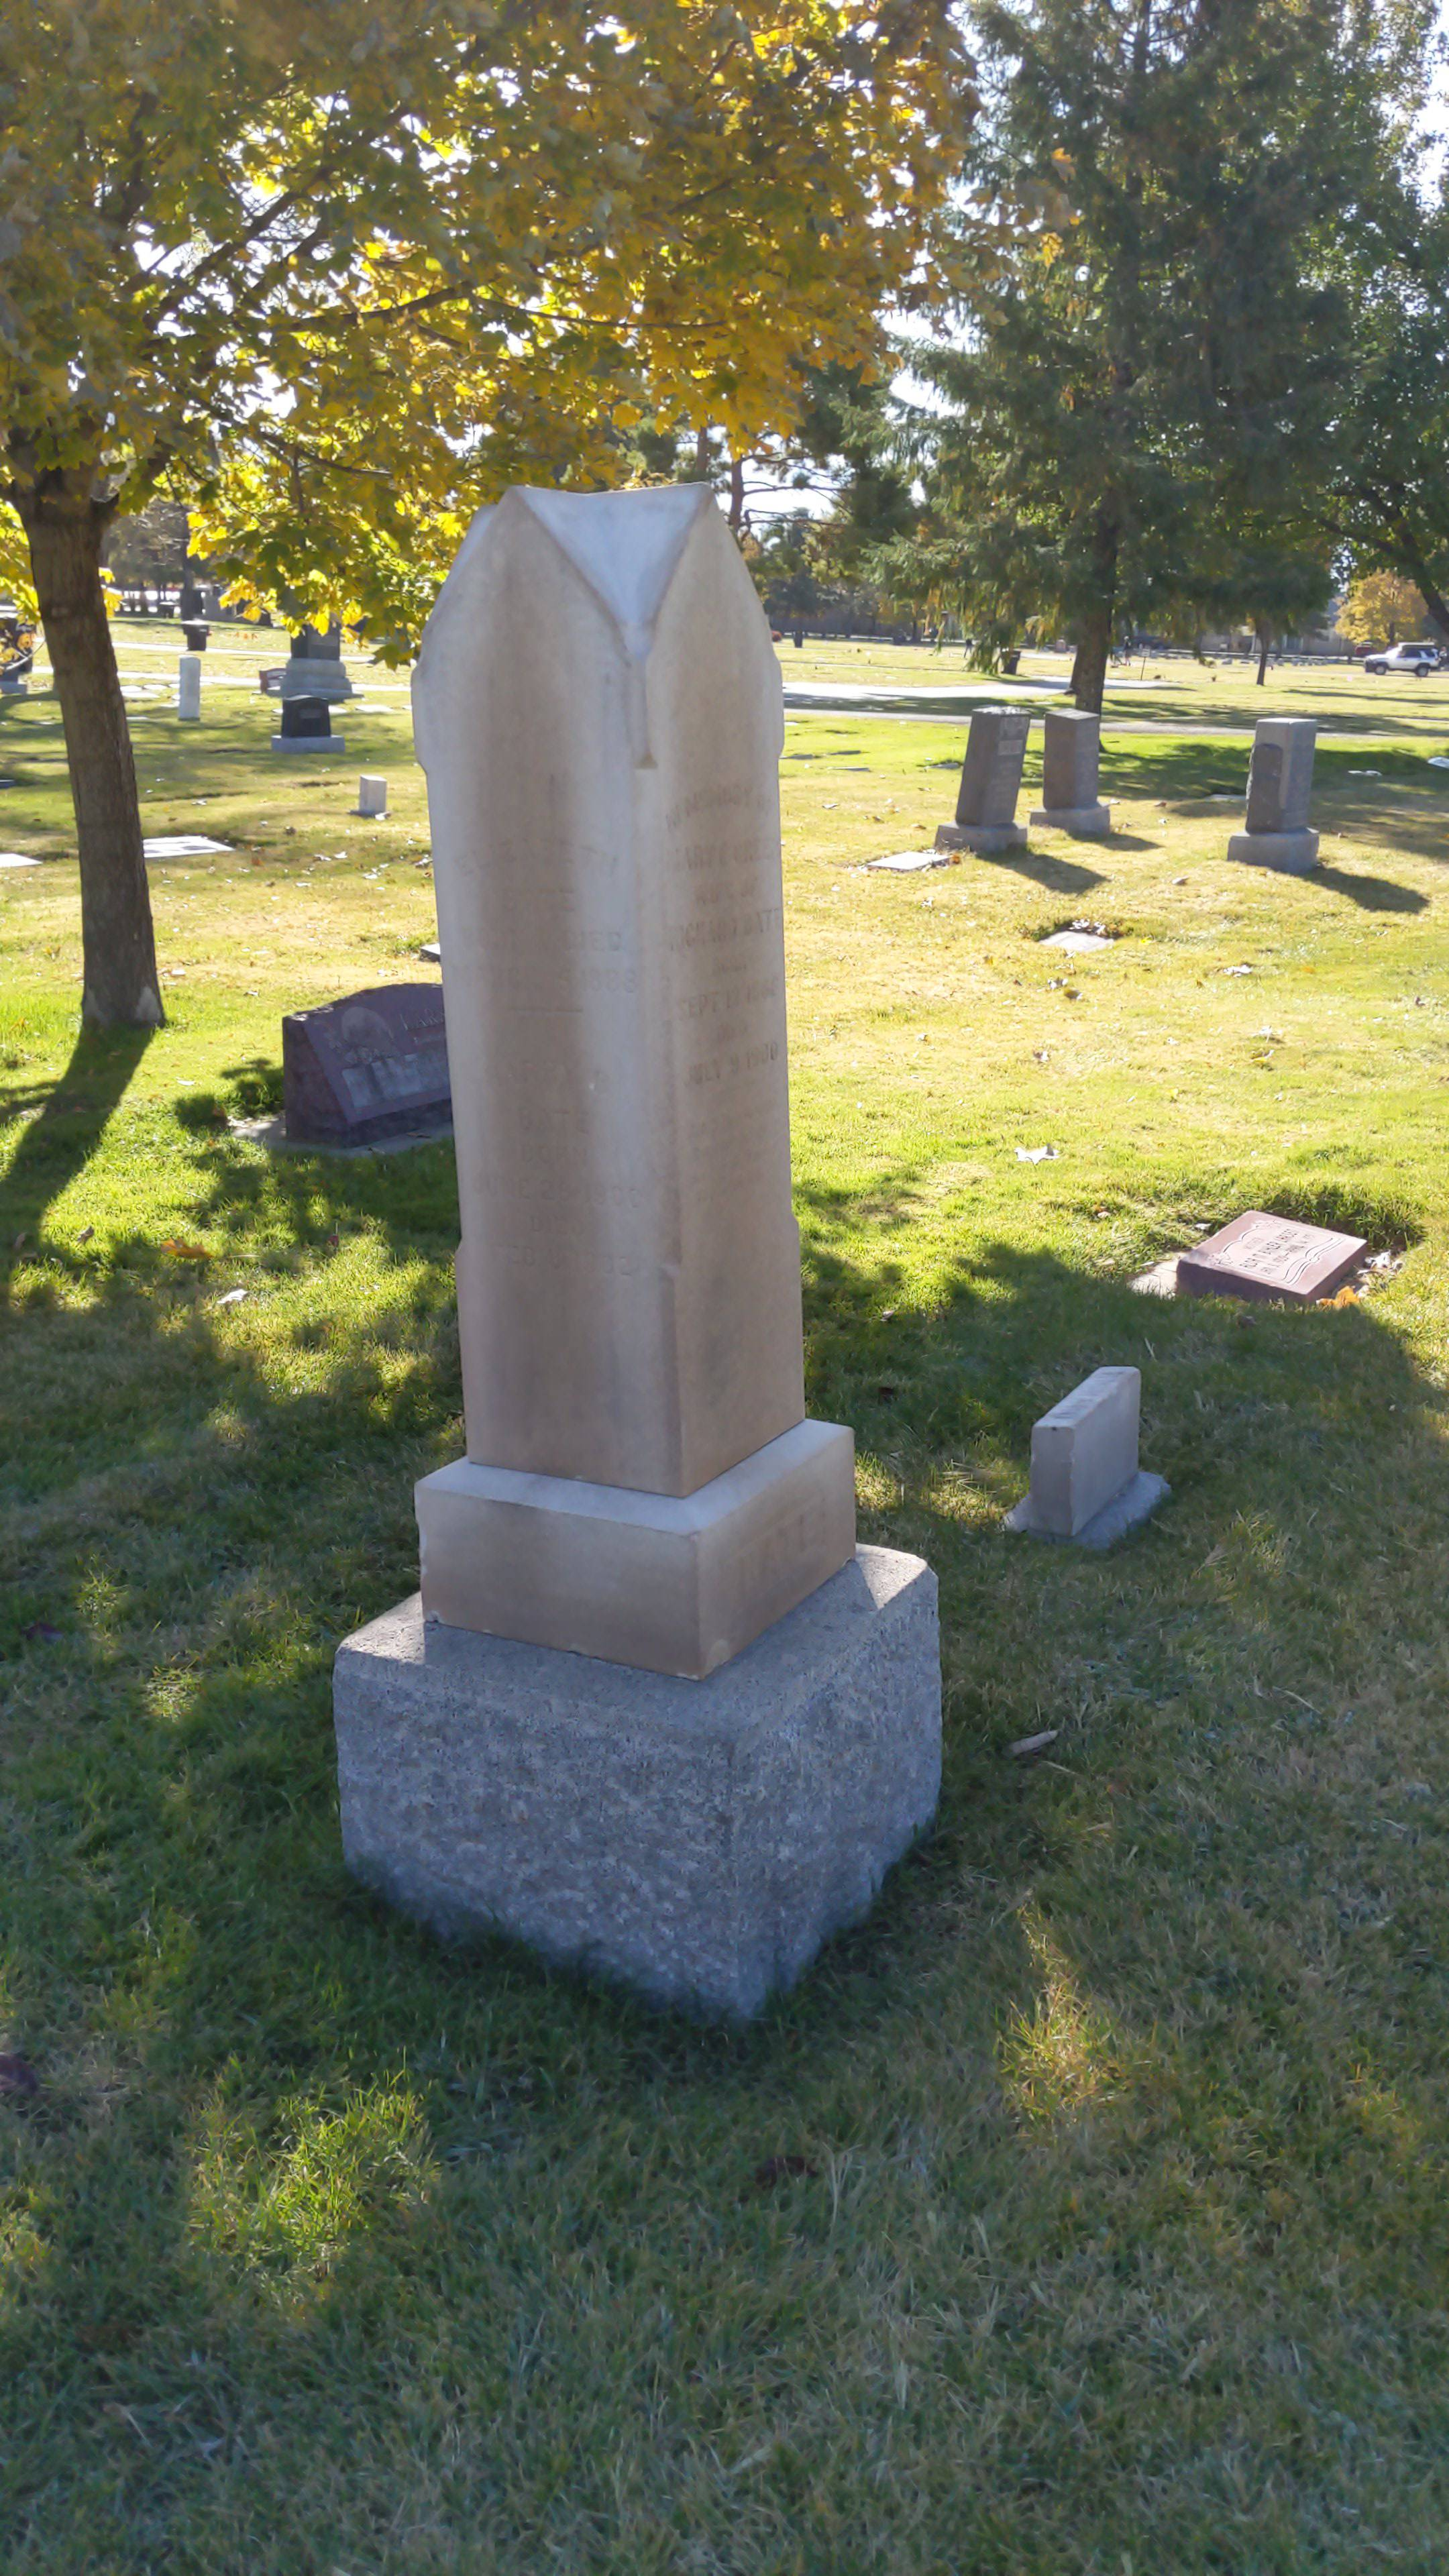obelisk: (419, 483, 856, 1695)
